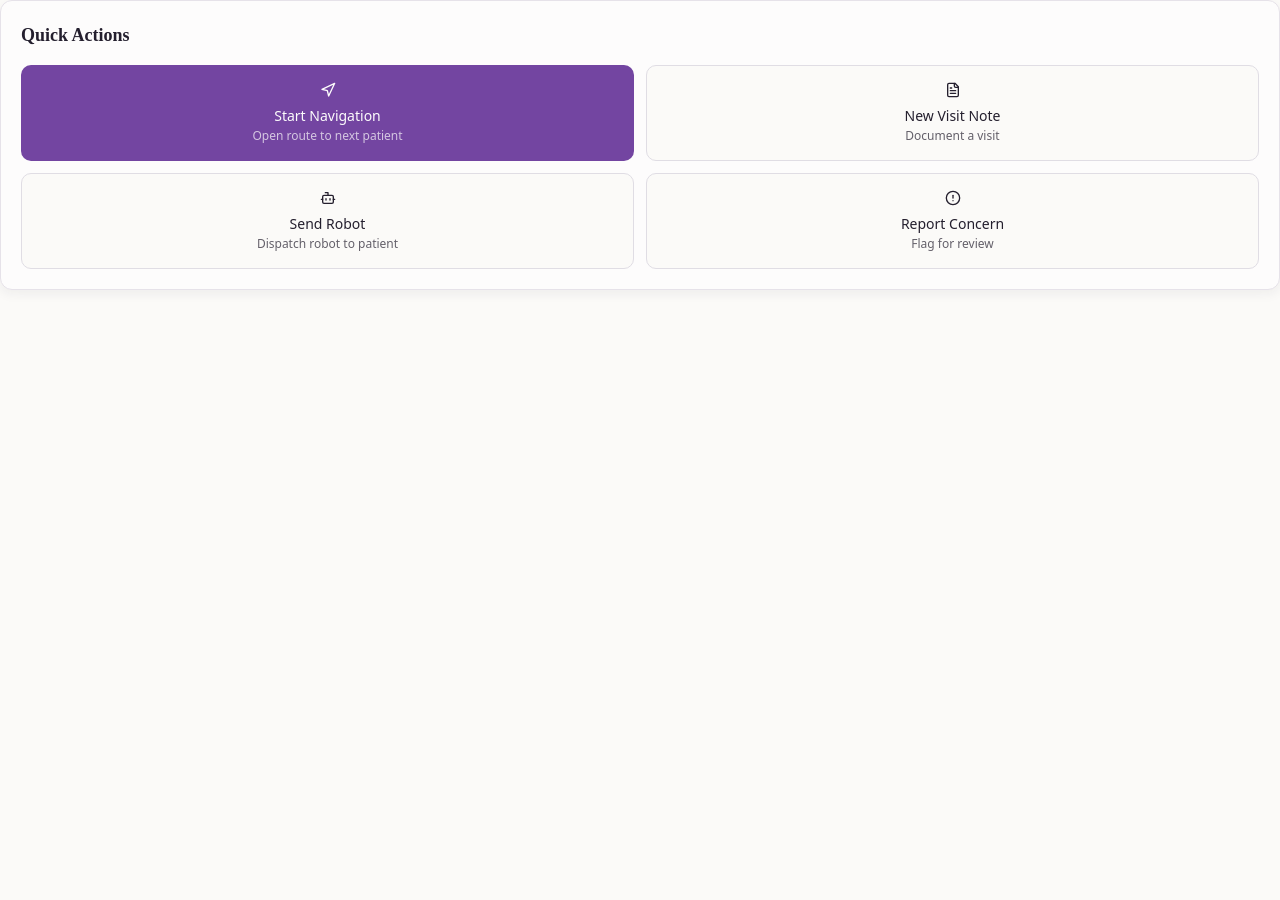
it: QuickActions › Send Robot button opens dialog
The width and height of the screenshot is (1280, 900).
Click the text "Send Robot" at [328, 224], box x1=290 y1=214 x2=365 y2=233
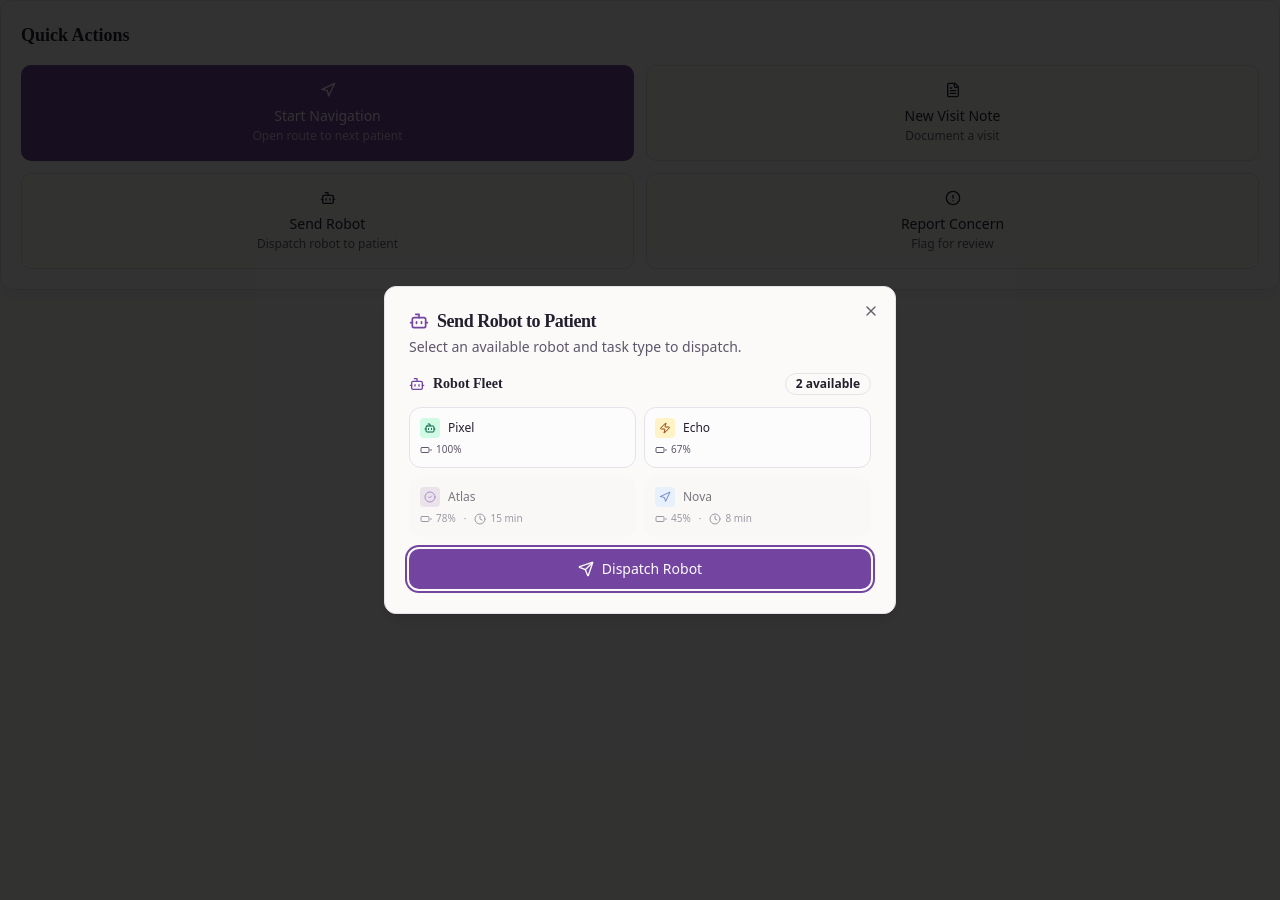
Expected: the heading "Send Robot to Patient" is shown, x1=409 y1=311 x2=596 y2=331
